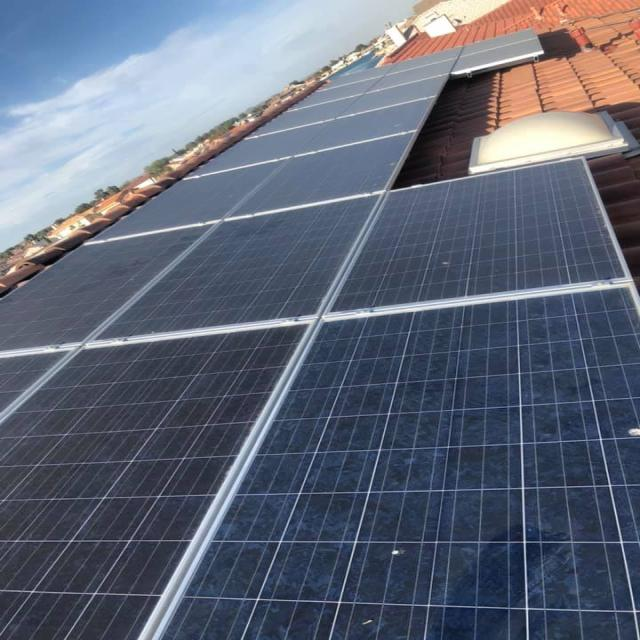dust-solar-panel: (2, 34, 638, 640)
